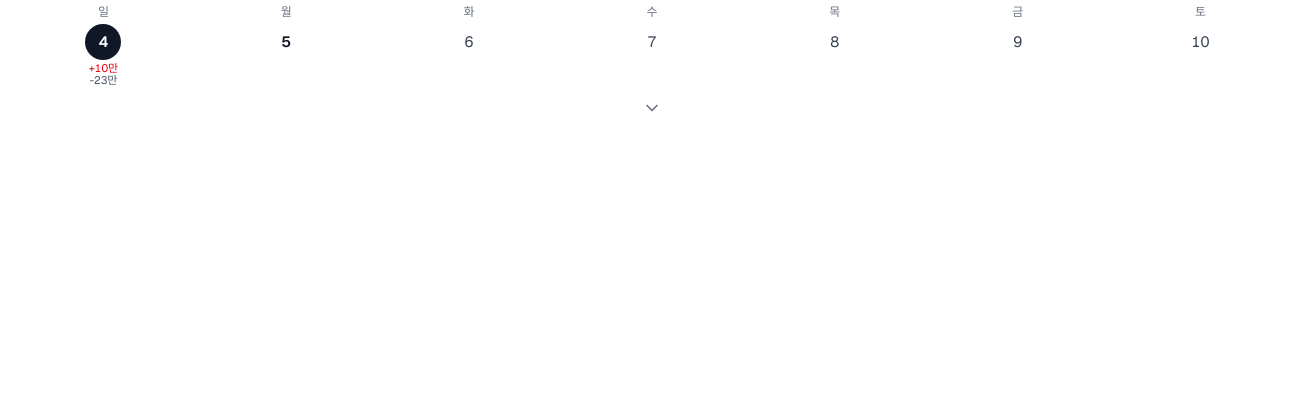
Test: LedgerDateStrip › 펼침 토글은 로컬 상태로 월 전체를 열고 닫으며 펼침 상태를 알린다
Step 1. Click the button named "월간 달력 펼치기" → (652, 108), box [12,86,1292,130]
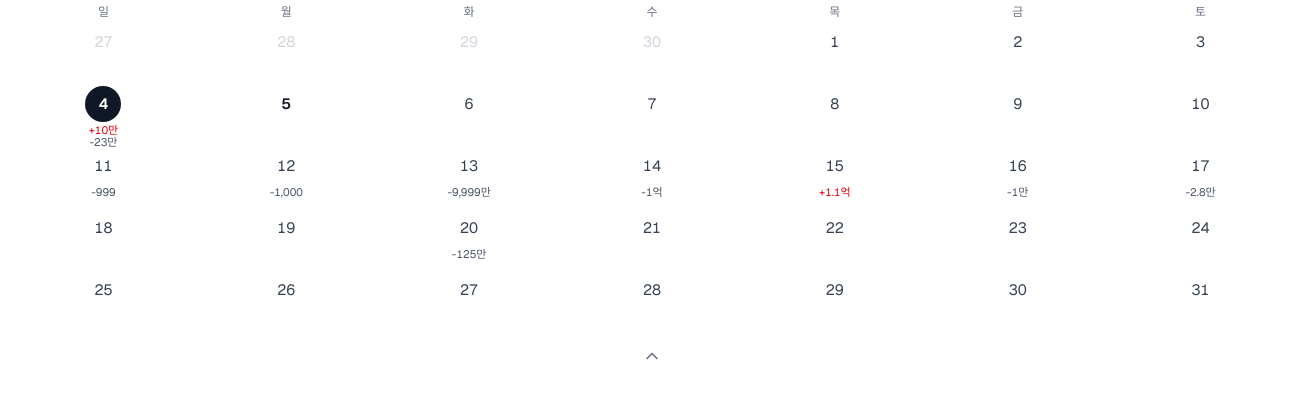
Expected: the number of buttons "27" is 35
Step 2. Click the button named "주간 달력으로 접기" → (652, 356), box [12,334,1292,378]
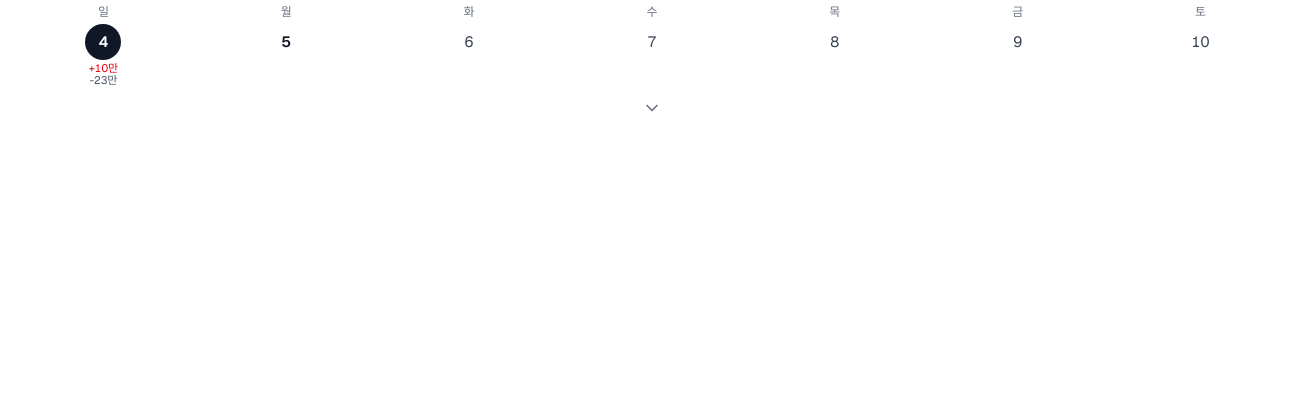
Expected: the number of buttons "4 +10만 -23만" is 7
